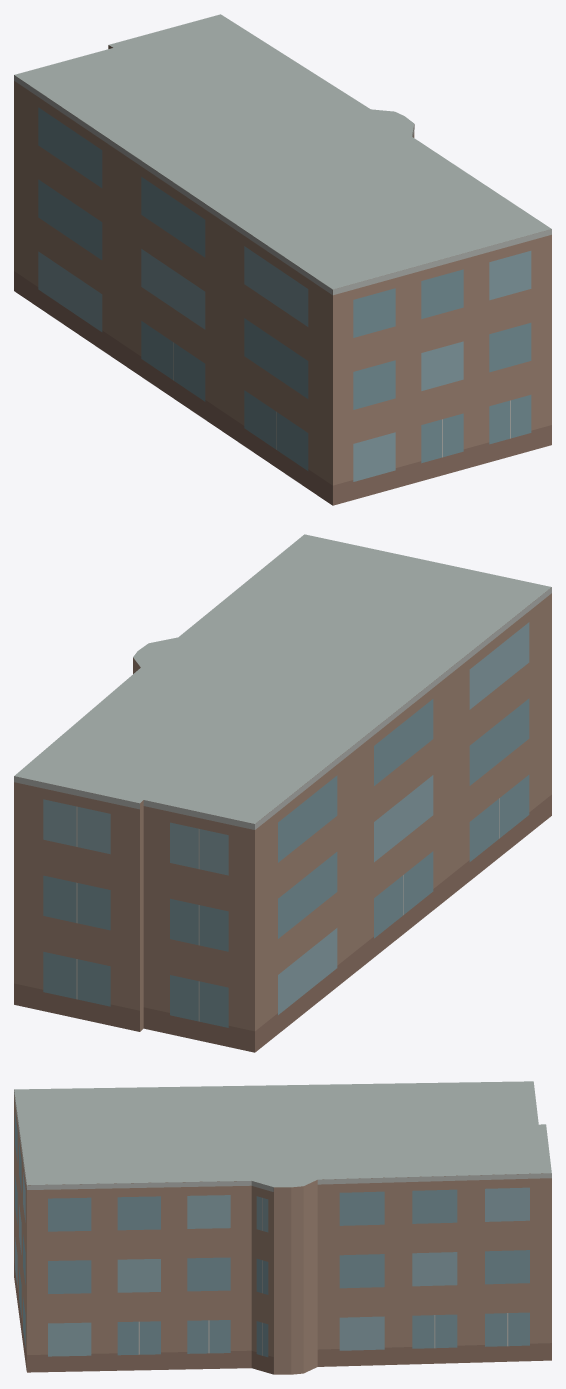
The model's file is survey-upis-32897686.glb.
3 views of the same model, one above another, from view 1: azimuth 30°, elevation 25°; view 2: azimuth 150°, elevation 25°; view 3: azimuth 270°, elevation 25° (orthographic). The views are drawn at different scales.
Visible parts, largest first — view 1: survey-upis-32897686.tmp; view 2: survey-upis-32897686.tmp; view 3: survey-upis-32897686.tmp.
Part boxes in pixels (<box>): survey-upis-32897686.tmp: <box>14,14,551,505</box>; survey-upis-32897686.tmp: <box>14,534,551,1052</box>; survey-upis-32897686.tmp: <box>14,1081,551,1374</box>.
Size of the model in its own units: 11.11 by 9.15 by 23.82.
